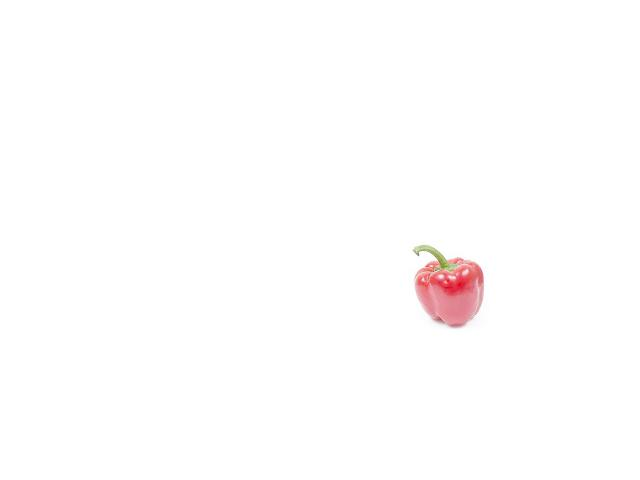bell_pepper: (409, 243, 489, 327)
